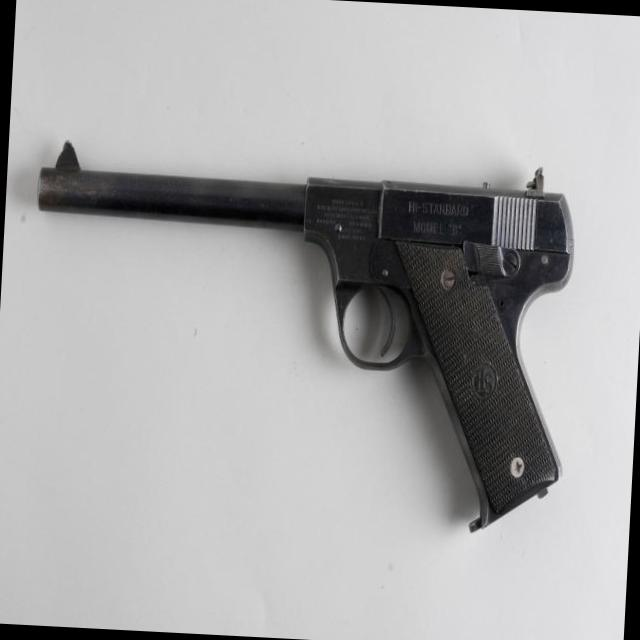Gun: (38, 143, 573, 529)
